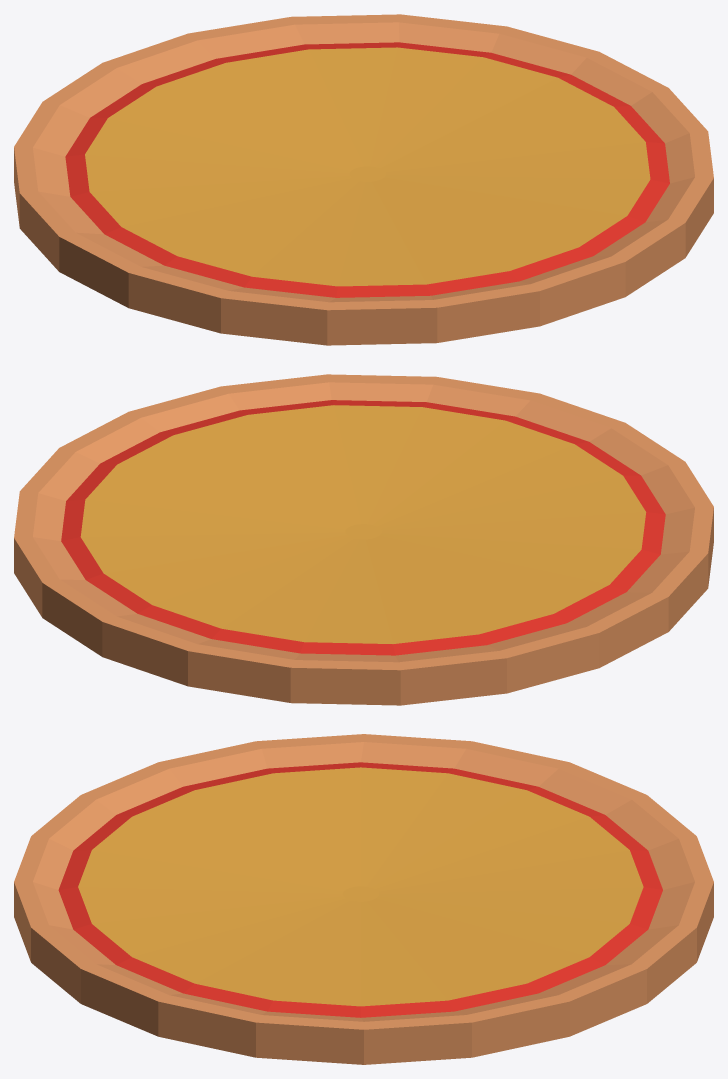
Rendered from Pizza.fbx.
3 renders of one model, top to bottom at view 1: azimuth 30°, elevation 25°; view 2: azimuth 150°, elevation 25°; view 3: azimuth 270°, elevation 25°, orthographic.
Visible parts, largest first — view 1: Cylinder; view 2: Cylinder; view 3: Cylinder.
Boxes of the visible parts, bbox=[...] form: Cylinder: bbox=[14, 14, 713, 345]; Cylinder: bbox=[14, 374, 713, 705]; Cylinder: bbox=[14, 734, 713, 1064].
Size of the model in its own units: 74 by 4.1 by 74.
